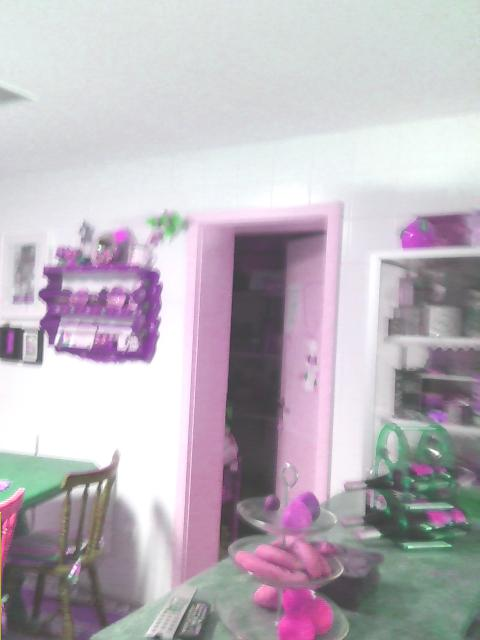semi_door: (179, 196, 346, 598)
